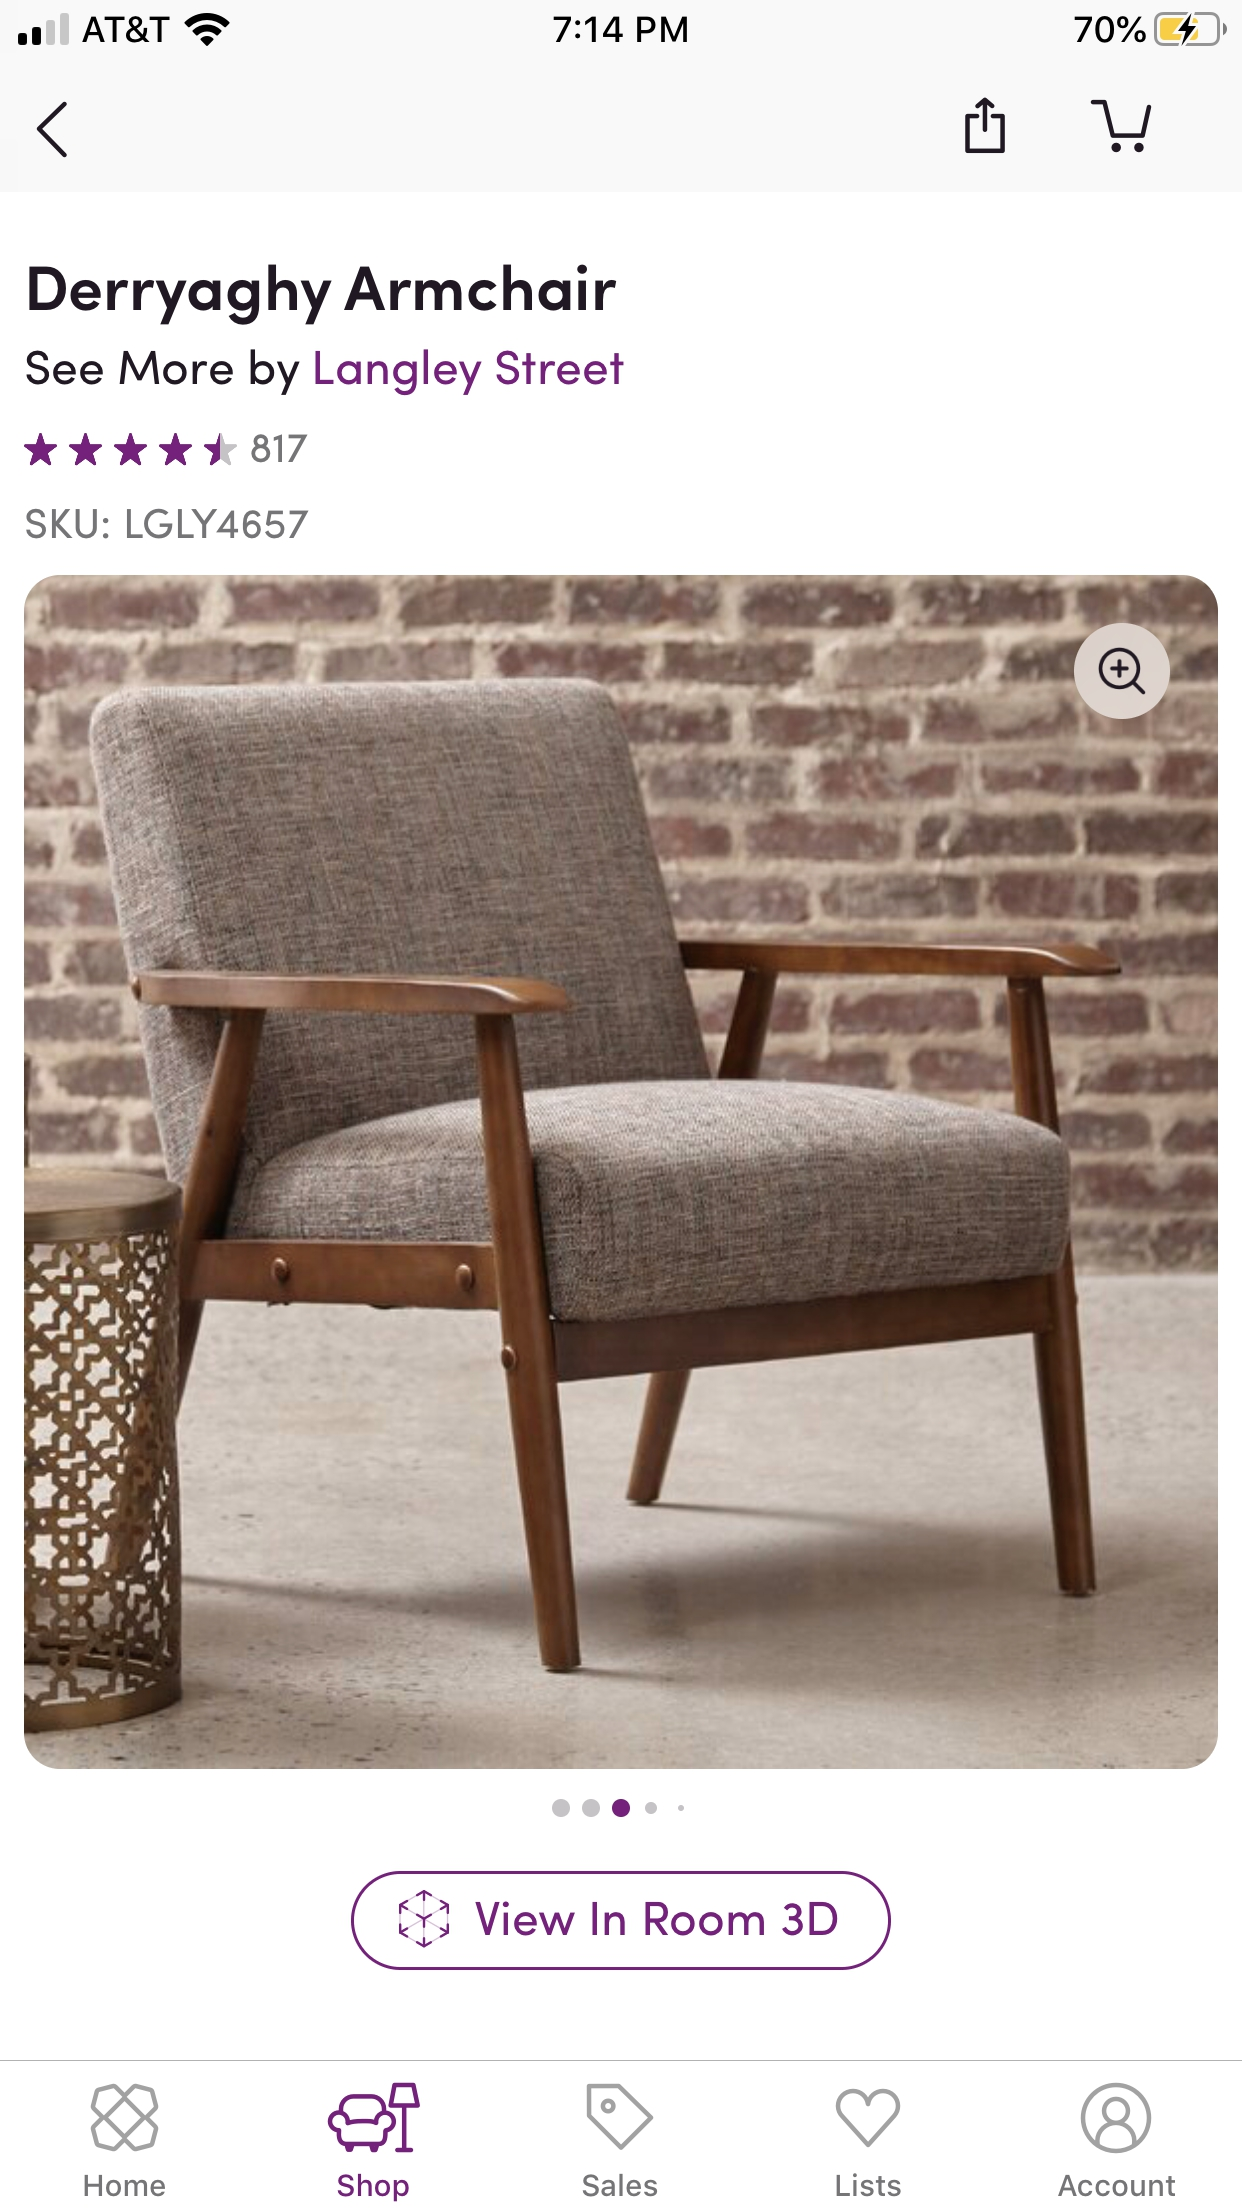Icon: (1074, 623, 1171, 720), (24, 434, 240, 466), (1081, 2082, 1151, 2153), (587, 2084, 654, 2150), (836, 2090, 899, 2147), (1090, 100, 1151, 155), (964, 99, 1005, 155), (36, 102, 68, 159)
Image: (24, 576, 1219, 1770), (329, 2082, 422, 2153), (91, 2084, 159, 2152)
PageIndicator: (552, 1799, 685, 1818)
Text: (30, 264, 617, 326), (27, 350, 623, 396), (26, 510, 309, 538), (1059, 2175, 1175, 2197), (338, 2173, 409, 2202), (582, 2173, 658, 2197), (85, 2175, 165, 2197), (836, 2173, 901, 2197), (252, 435, 309, 463)
TextButton: (350, 1871, 892, 1971)
UpperTaskBar: (2, 2, 1240, 49)
